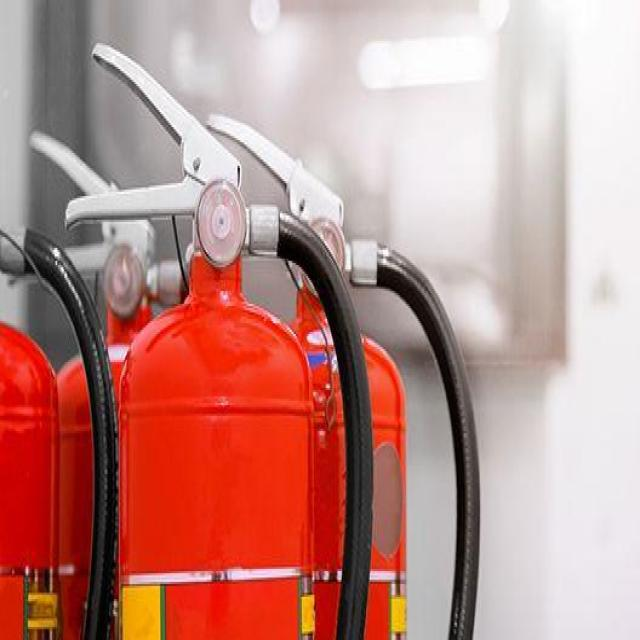fire_extinguisher: (56, 32, 383, 638), (197, 105, 491, 638), (0, 218, 121, 638)
